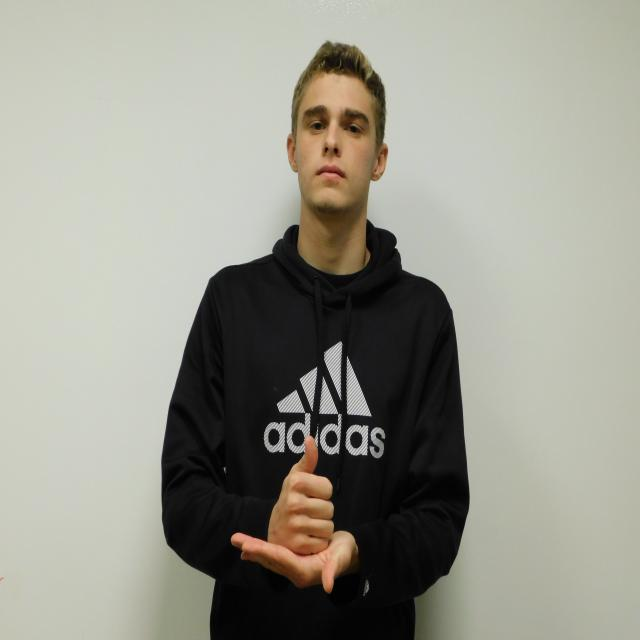help: (231, 435, 356, 594)
